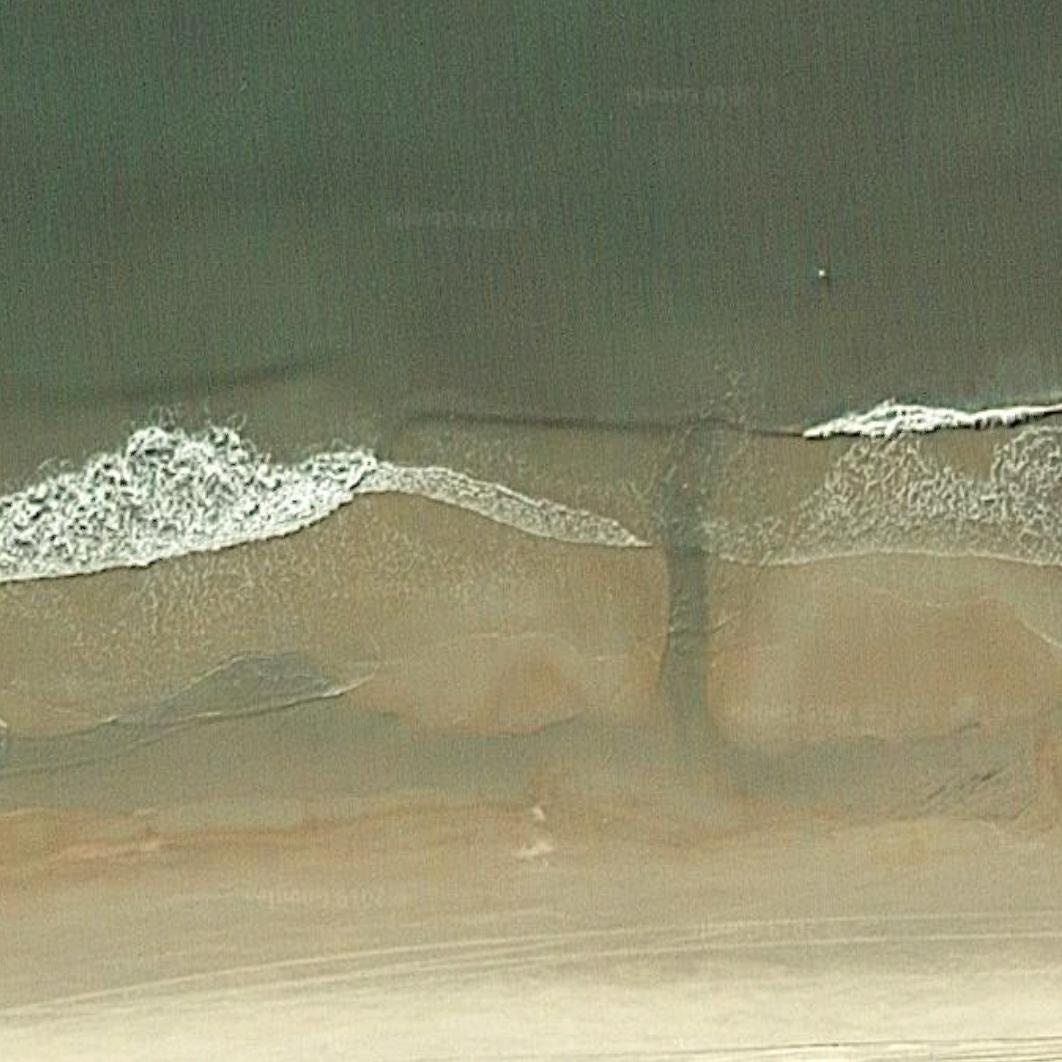rip_current: (594, 362, 743, 658)
